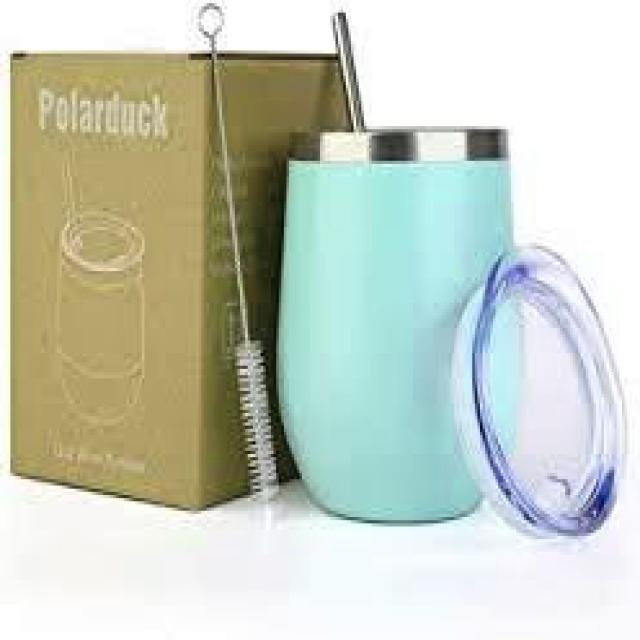bottle: (267, 102, 548, 534)
